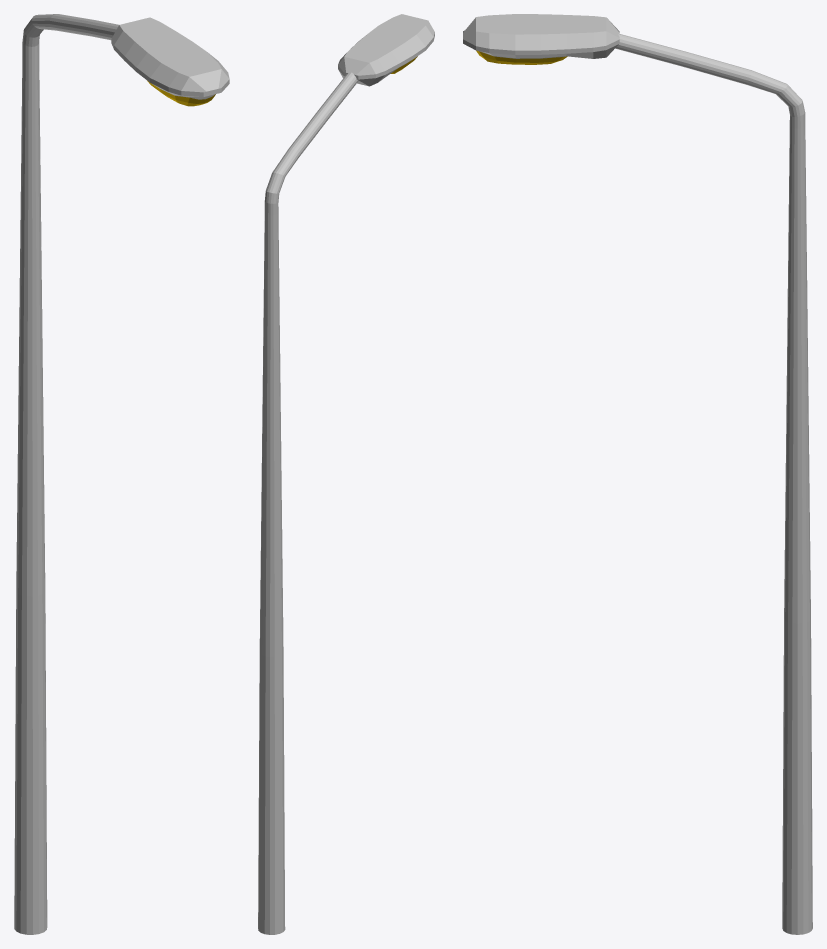
File: Street Light.fbx
3 renders of one model, left to right at view 1: azimuth 30°, elevation 25°; view 2: azimuth 150°, elevation 25°; view 3: azimuth 270°, elevation 25°, orthographic. The views are drawn at different scales.
Visible parts, largest first — view 1: Cube; view 2: Cube; view 3: Cube.
Part boxes in pixels (x1=…): Cube: x1=14, y1=14, x2=229, y2=934; Cube: x1=258, y1=14, x2=434, y2=934; Cube: x1=463, y1=14, x2=812, y2=934.
Size of the model in its own units: 48.65 by 665 by 233.
